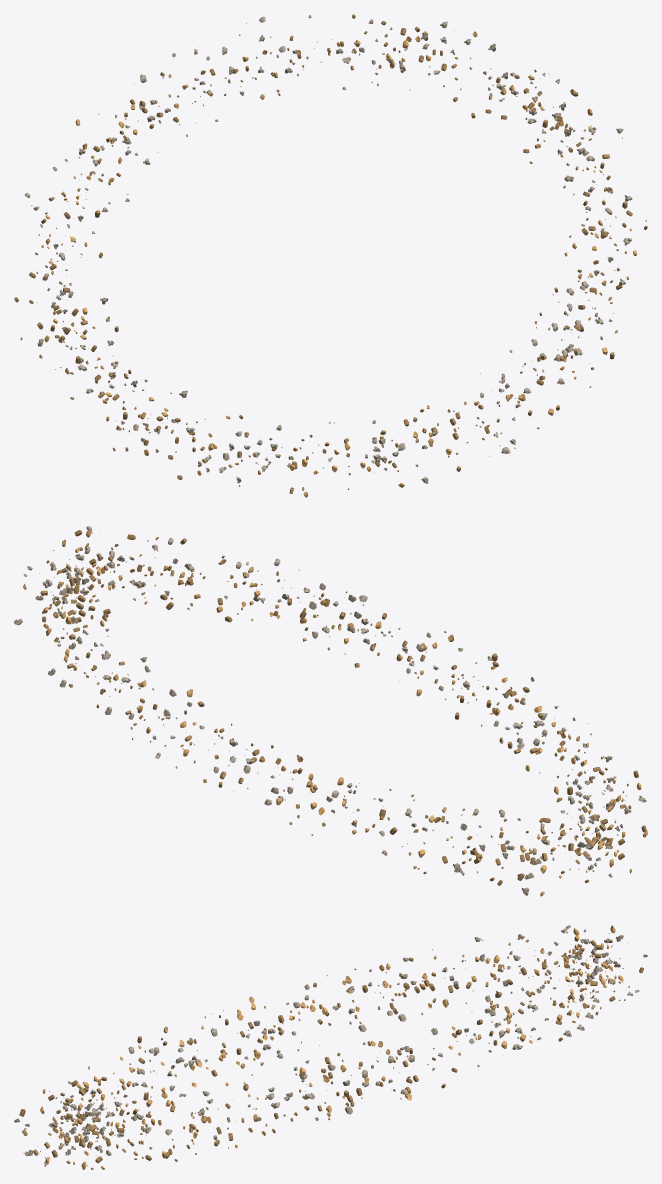
File: planet-outer-ring-as-is.glb
The picture shows the model from 3 angles, top to bottom: view 1: azimuth 30°, elevation 25°; view 2: azimuth 150°, elevation 25°; view 3: azimuth 270°, elevation 25°; orthographic projection. The views are drawn at different scales.
Visible parts, largest first — view 1: planet.002, planet.003; view 2: planet.002, planet.003; view 3: planet.002, planet.003.
Part boxes in pixels (box(x1,y1,x2,y2)): planet.002: box(14, 15, 646, 497); planet.003: box(15, 14, 647, 497); planet.002: box(14, 526, 647, 885); planet.003: box(23, 526, 647, 896); planet.002: box(19, 925, 647, 1169); planet.003: box(14, 925, 646, 1169).
Bounding box in the file's own units: 30.54 × 14.77 × 31.63.
1 material, 1 textured.
